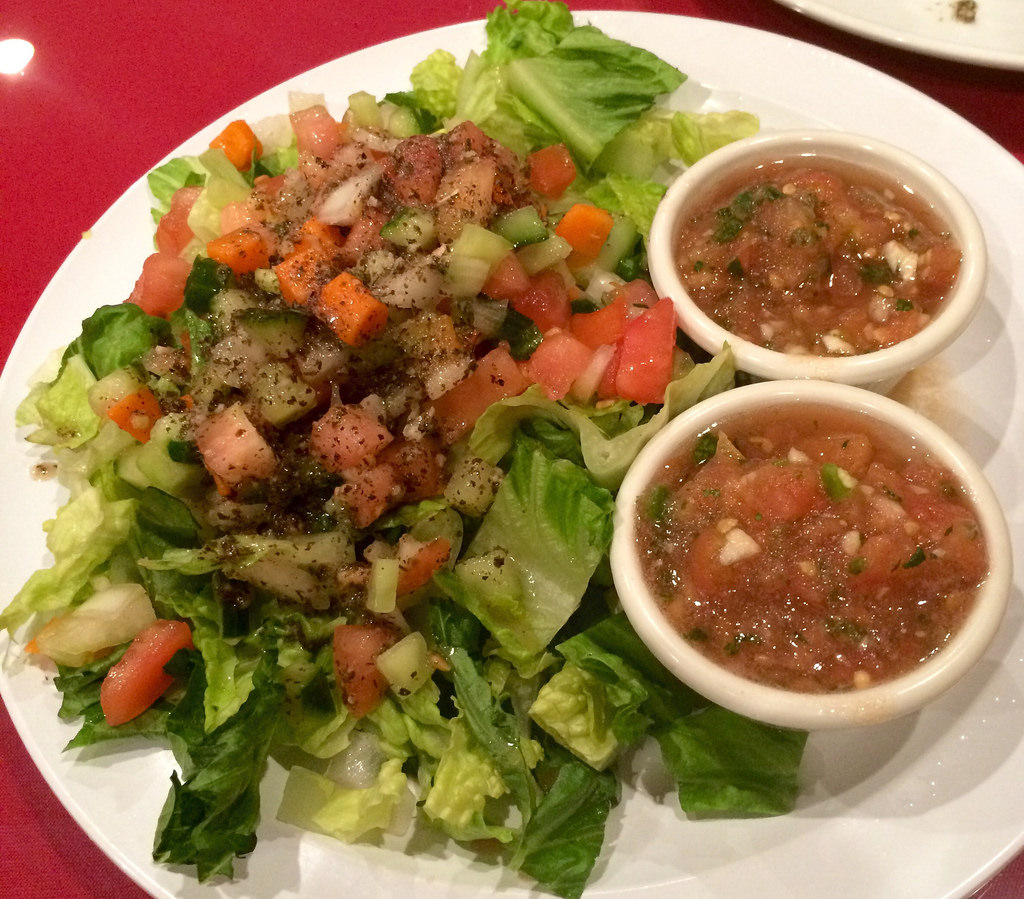chopped lettuce: (339, 551, 628, 823), (507, 23, 672, 189)
